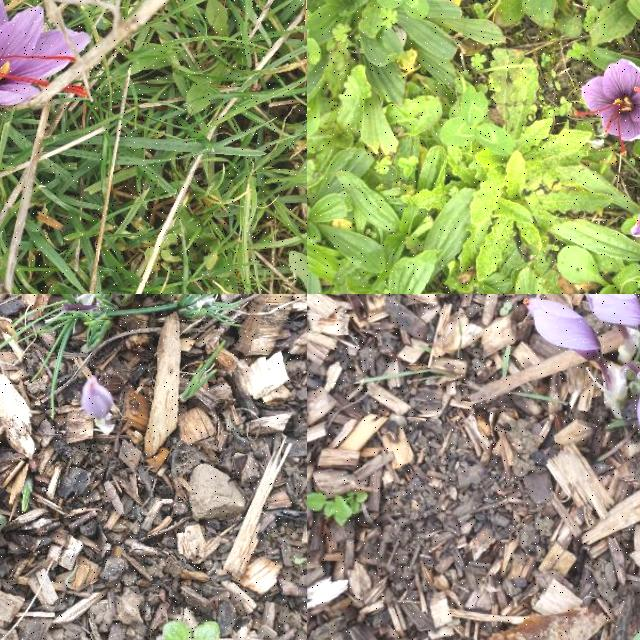flower: (0, 0, 92, 110), (575, 59, 640, 154), (524, 297, 604, 361), (584, 294, 640, 332), (81, 378, 115, 420)
